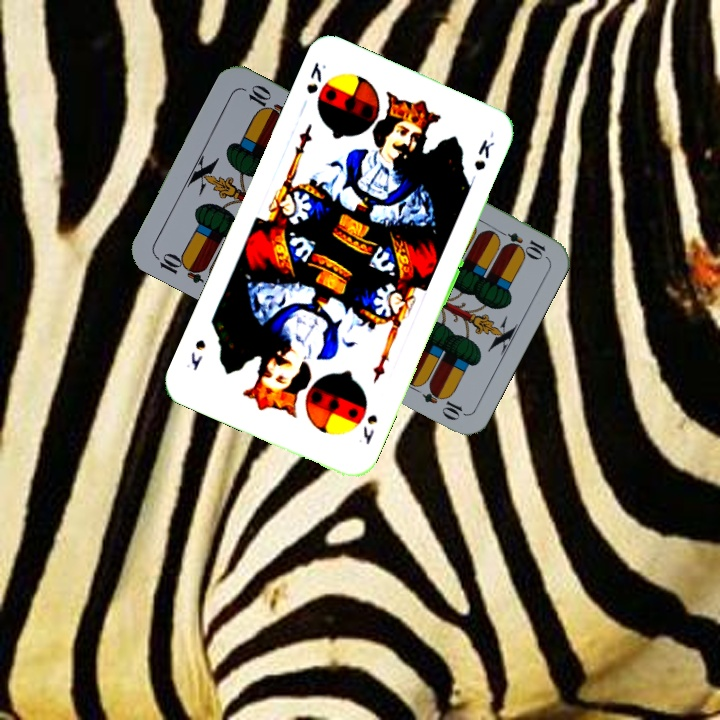E10: (151, 248, 209, 286), (491, 225, 548, 261)
SK: (302, 58, 329, 97), (359, 410, 380, 447)
